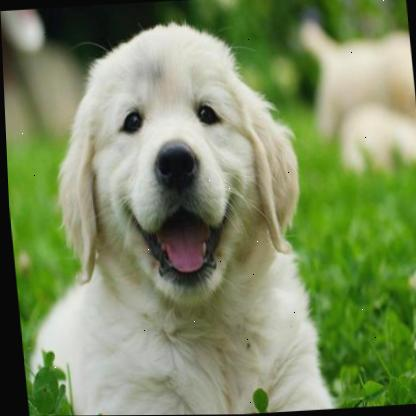dog: (1, 13, 343, 416)
